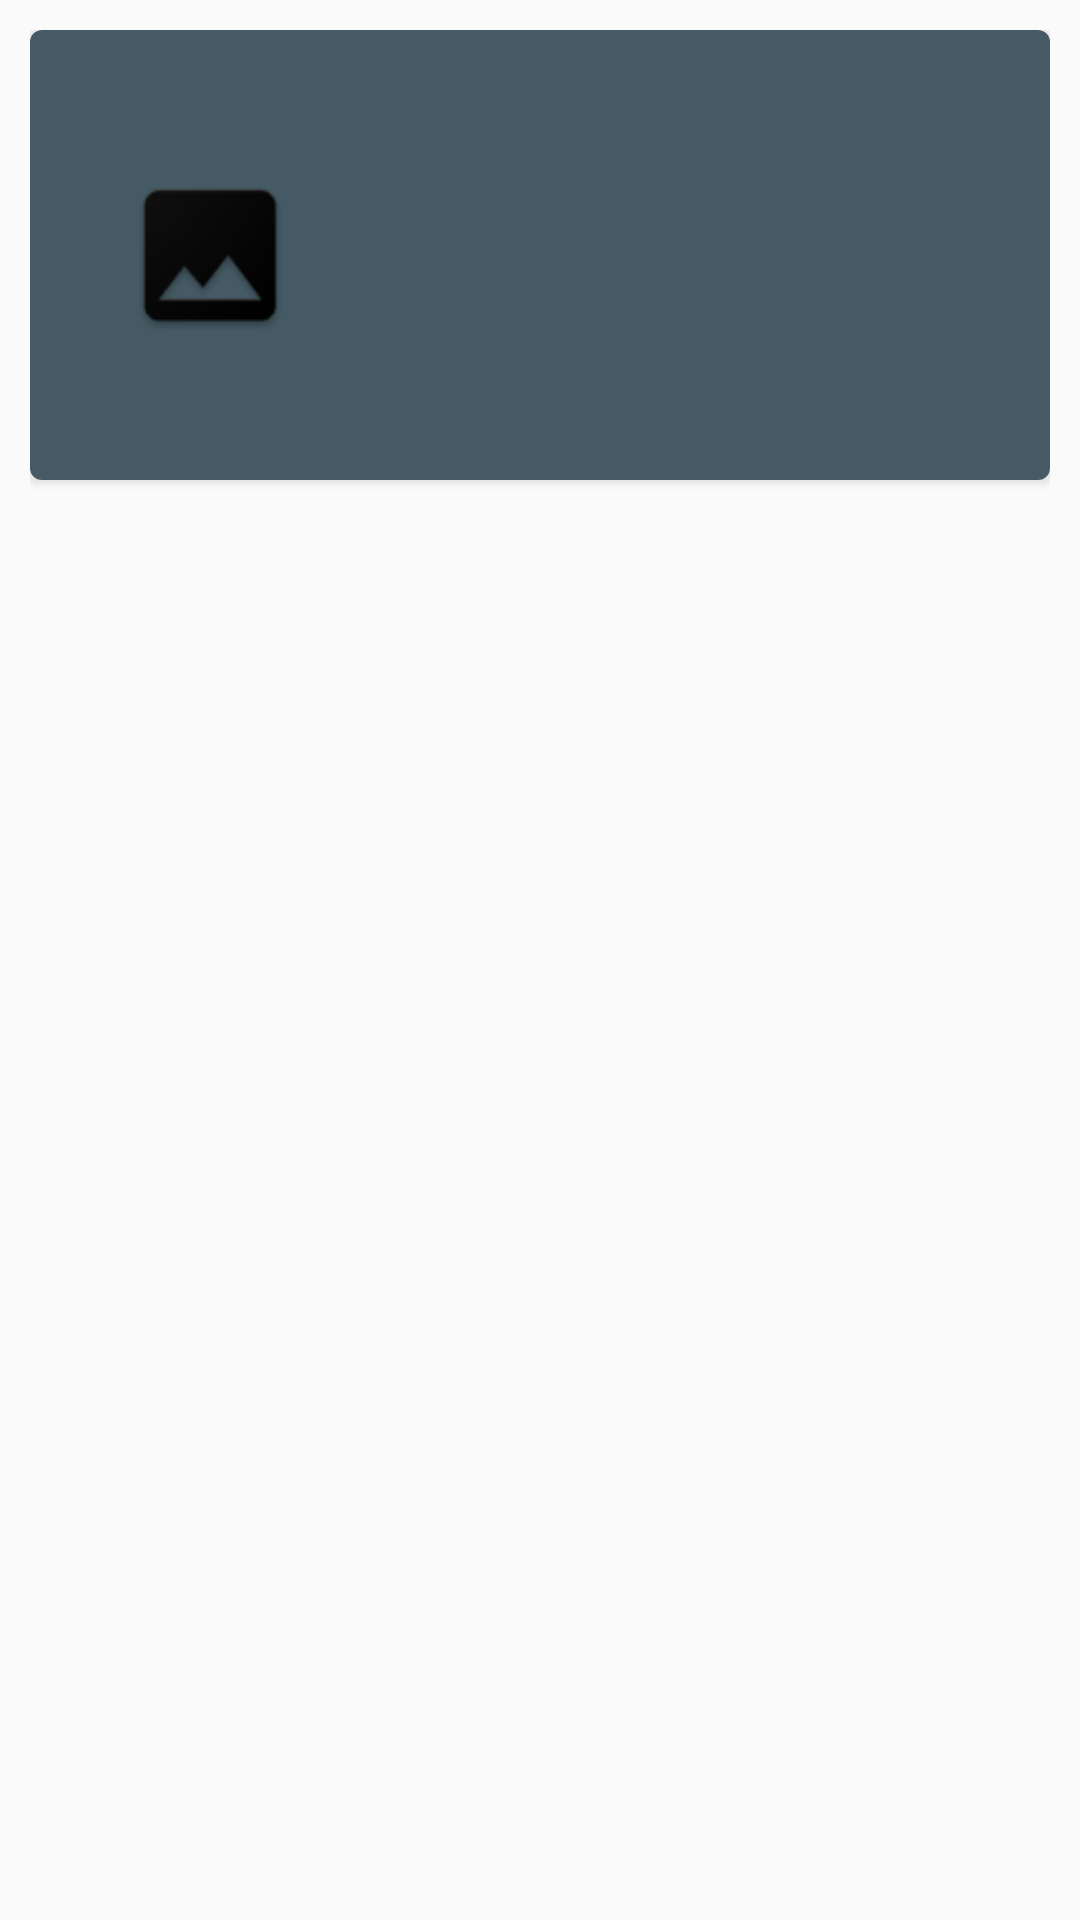

Named icons in this screenshot (1080x1920) and their centers, (x,y):
place holder: (210,256)
